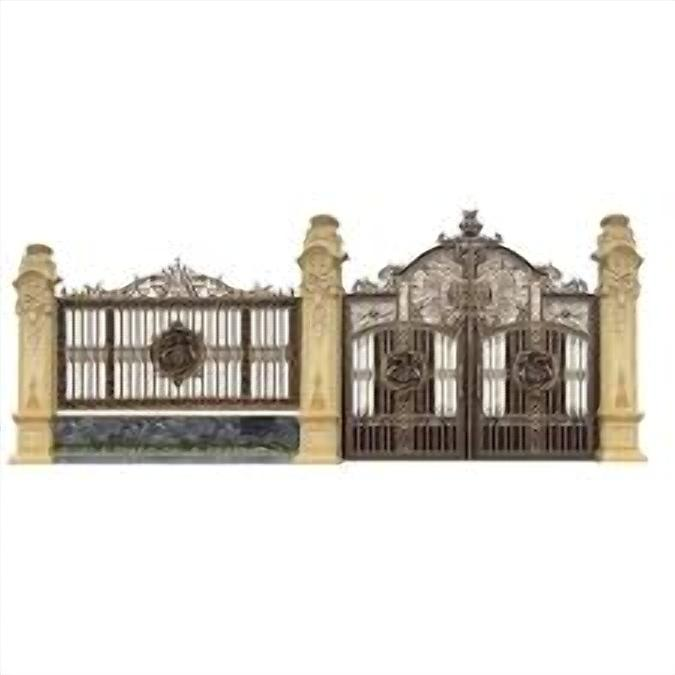Gate: (340, 206, 604, 464), (54, 258, 303, 409)
